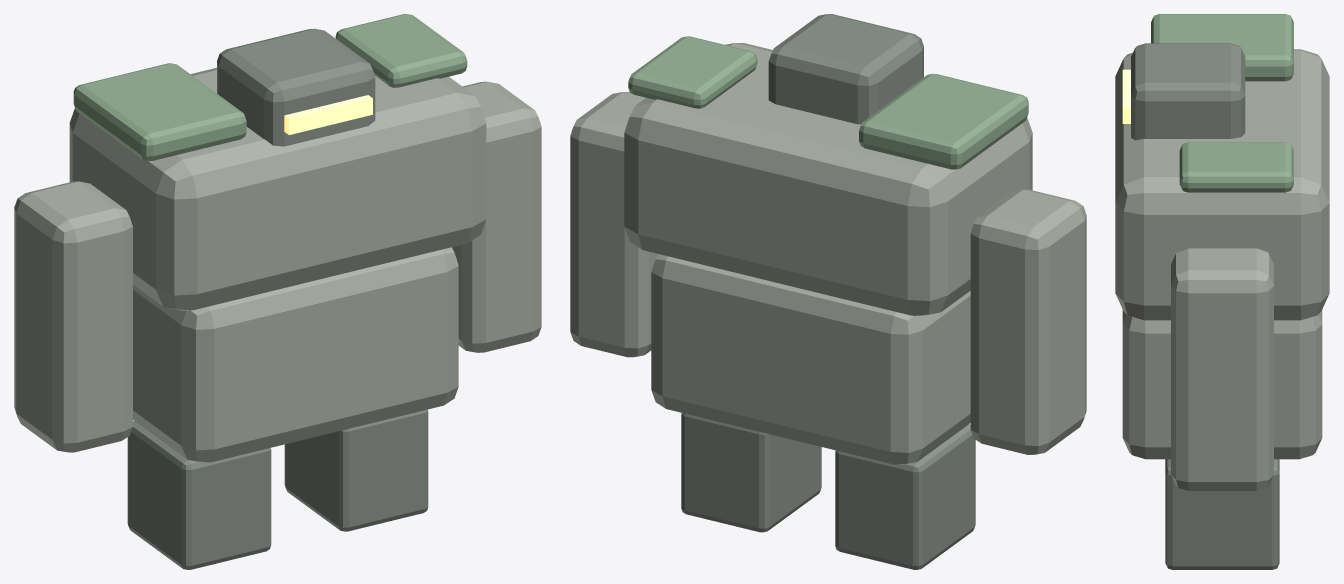
The model's file is enemy_brute.glb.
The picture shows the model from 3 angles, left to right: view 1: azimuth 30°, elevation 25°; view 2: azimuth 150°, elevation 25°; view 3: azimuth 270°, elevation 25°; orthographic projection. The views are drawn at different scales.
Parts seen in each view (by area): view 1: enemy_brute; view 2: enemy_brute; view 3: enemy_brute.
Part boxes in pixels (x1=…): enemy_brute: x1=14, y1=14, x2=541, y2=569; enemy_brute: x1=570, y1=14, x2=1086, y2=569; enemy_brute: x1=1115, y1=14, x2=1329, y2=569.
Size of the model in its own units: 1.86 by 1.75 by 0.75.
